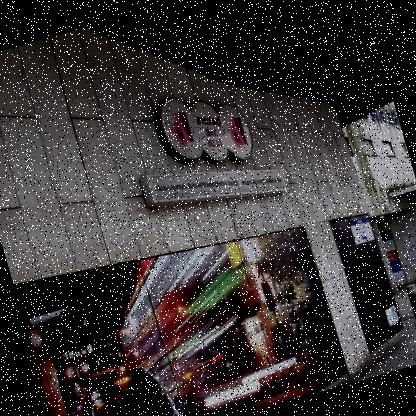Car: (58, 351, 196, 415)
